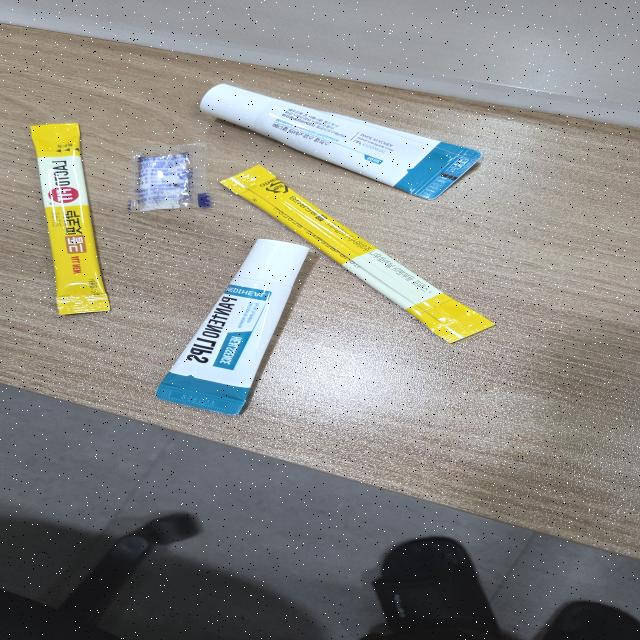lacto: (219, 163, 495, 344), (30, 118, 112, 315)
lib: (197, 81, 486, 201), (154, 239, 312, 416)
salt: (120, 143, 210, 217)
